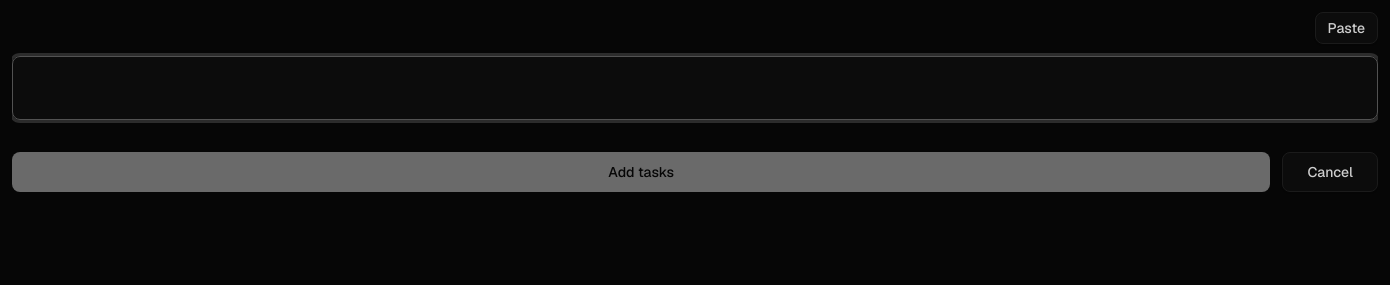
Test: CaptureForm › enables submit button when textarea has content
In the text box: [695, 88] box [12, 56, 1378, 120], type "Test task"
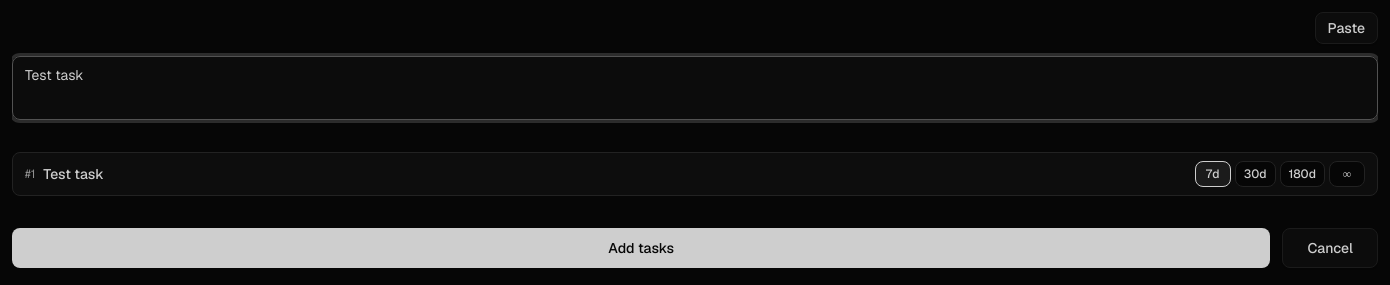
Expected: the button "Add tasks" is enabled, [12, 228, 1270, 268]
